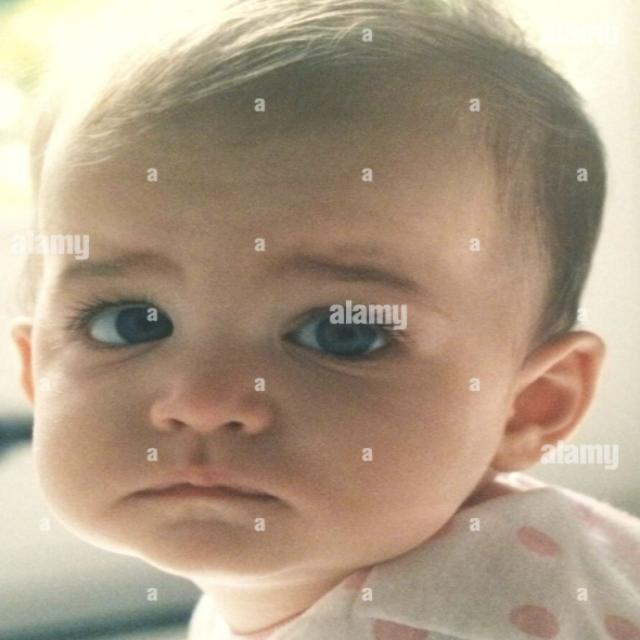sad: (20, 197, 502, 588)
